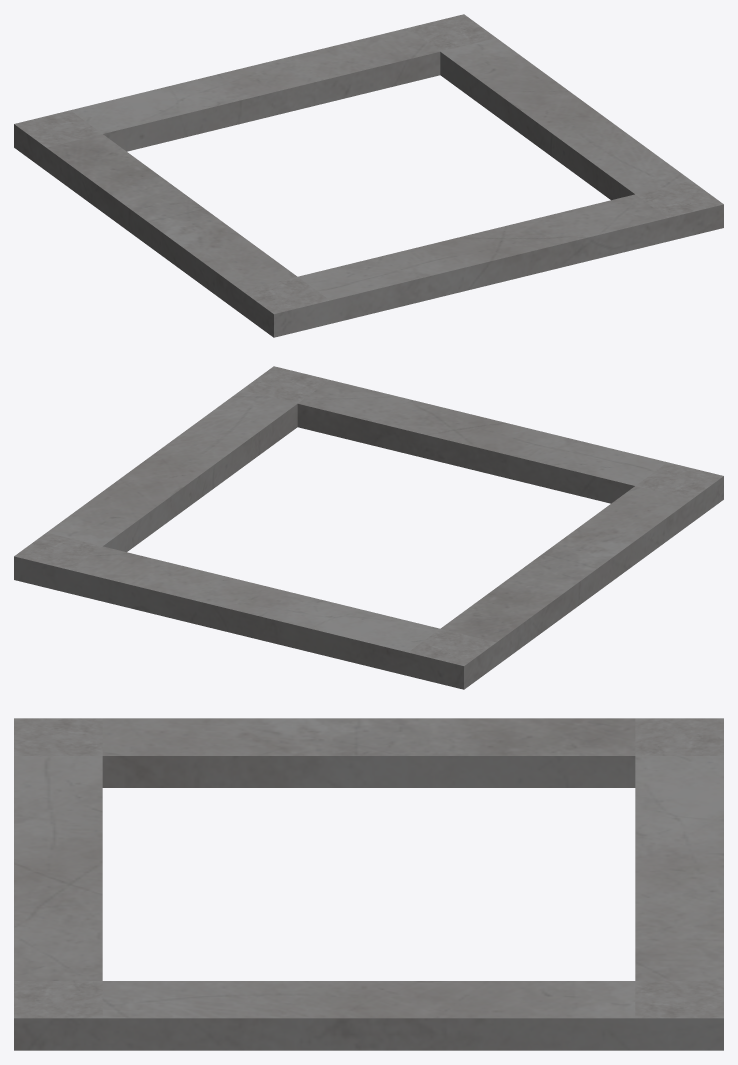
Rendered from blocco_ferro.fbx.
3 renders of one model, top to bottom at view 1: azimuth 30°, elevation 25°; view 2: azimuth 150°, elevation 25°; view 3: azimuth 270°, elevation 25°, orthographic. The views are drawn at different scales.
Parts seen in each view (by area): view 1: blocco_ferro; view 2: blocco_ferro; view 3: blocco_ferro.
Part boxes in pixels (box(x1,y1,x2,y2)): blocco_ferro: box(14, 14, 723, 337); blocco_ferro: box(14, 366, 723, 689); blocco_ferro: box(14, 718, 723, 1050).
Size of the model in its own units: 200 by 10 by 200.
